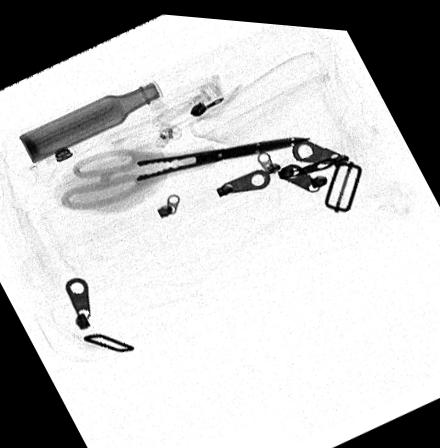Scissors: (56, 129, 313, 214)
